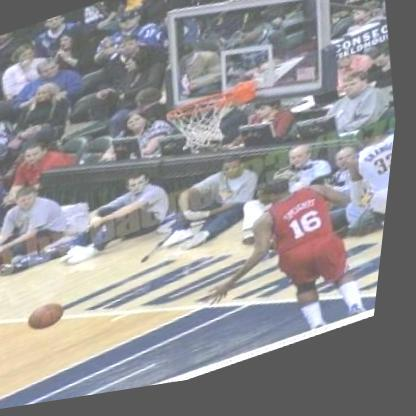basketball: (27, 294, 79, 344)
